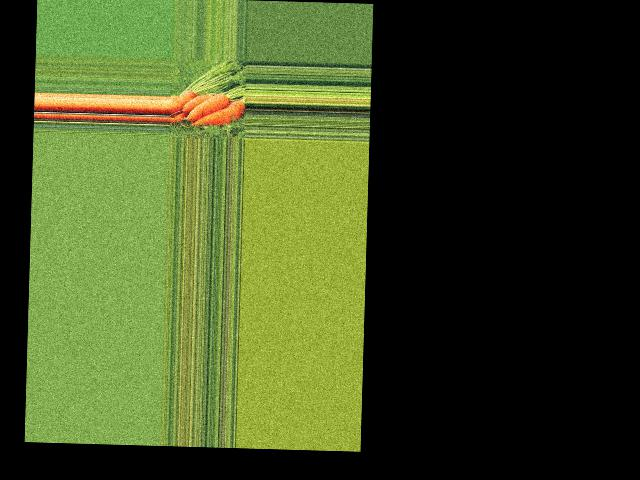carrot: (172, 87, 196, 116)
